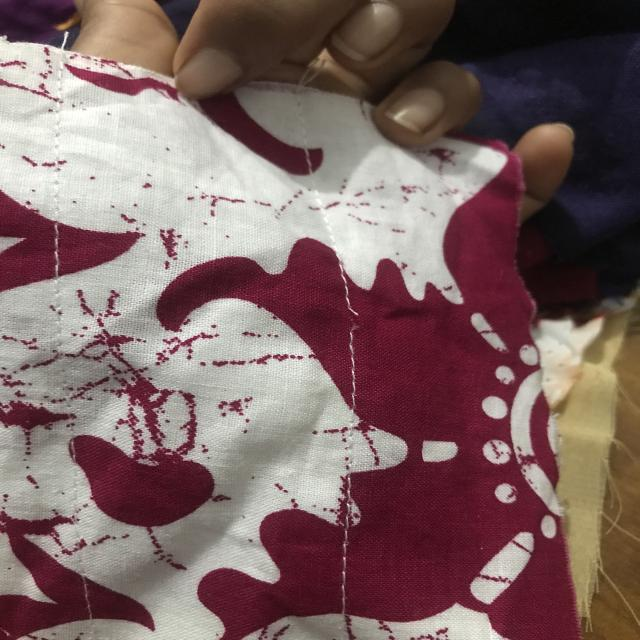broken: (332, 290, 372, 346)
